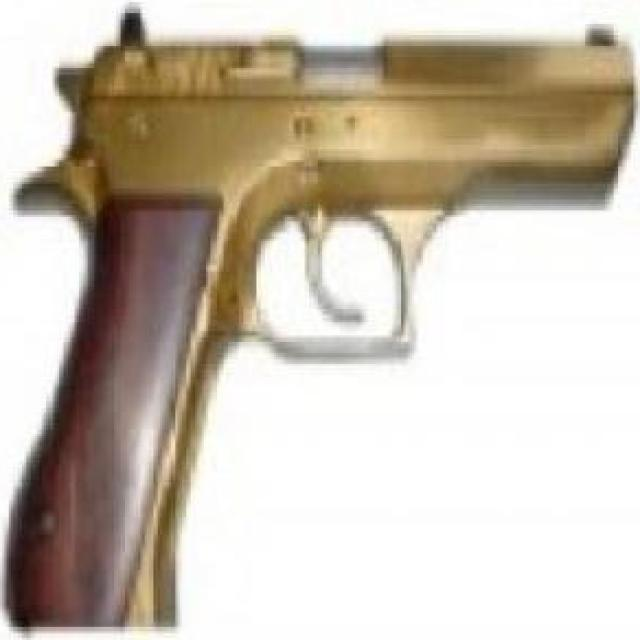pistol: (7, 0, 638, 627)
